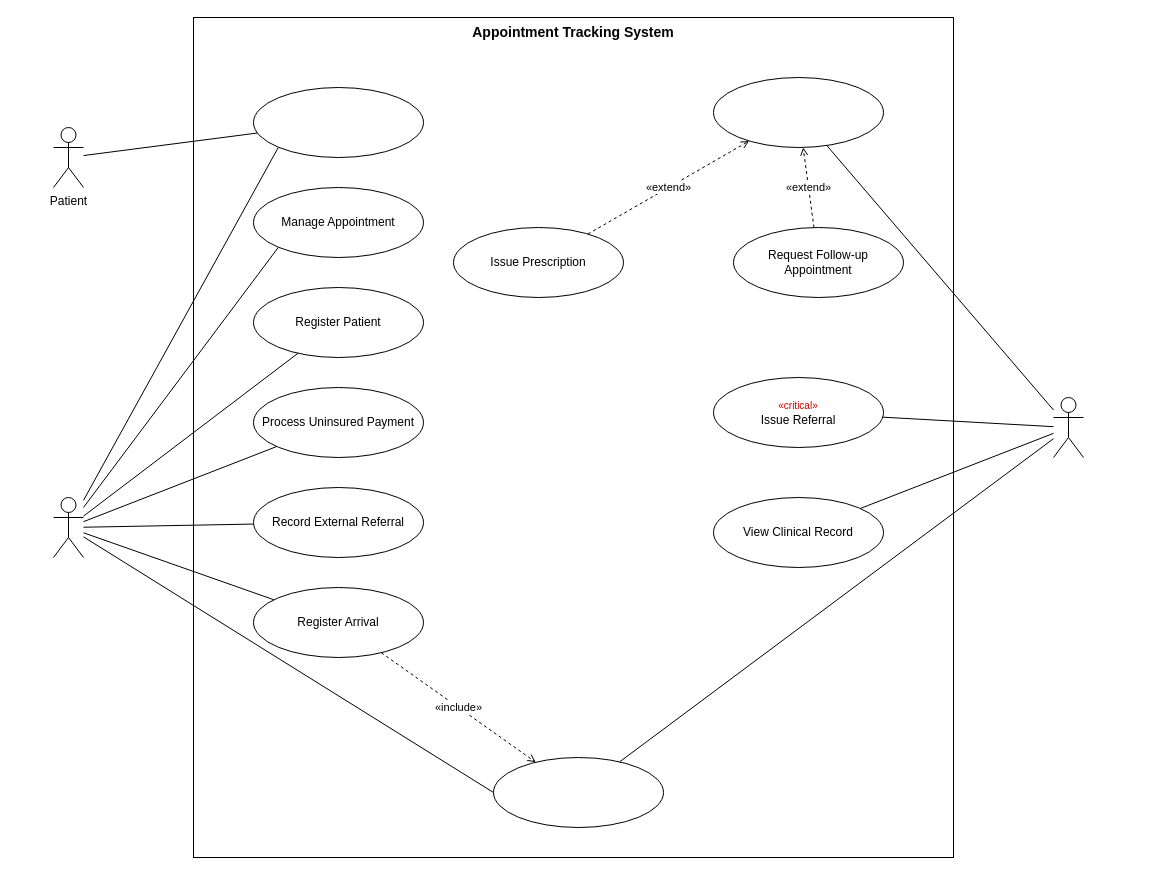
Image size: 1149x875. Some labels were removed from this diagram. The shapes that lost their labels are listed below. From the top down, each one's centre as x and y in pixels, then its label:
the point at 338,122: «critical» Request Appointment
the point at 798,112: «critical» Conduct Consultation
the point at 1068,427: Healthcare Professional
the point at 68,527: Administrative Staff
the point at 578,792: Search Patient
